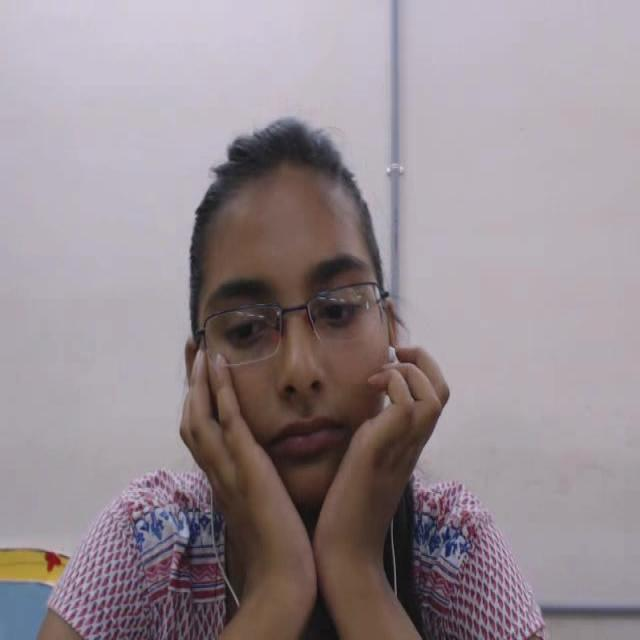Bored: (166, 107, 449, 520)
